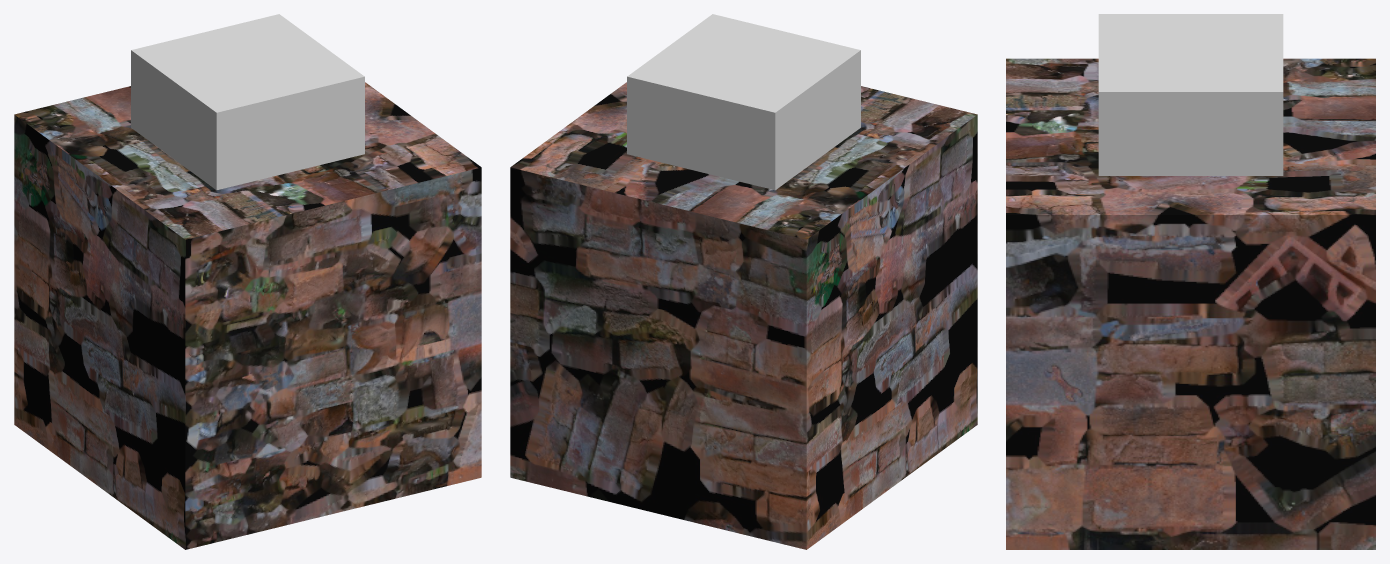
File: Cubes.gltf
3 views of the same model, side by side, from view 1: azimuth 30°, elevation 25°; view 2: azimuth 150°, elevation 25°; view 3: azimuth 270°, elevation 25° (orthographic). The views are drawn at different scales.
Visible parts, largest first — view 1: Cube, Cube.001; view 2: Cube, Cube.001; view 3: Cube, Cube.001.
Boxes of the visible parts, left/top/right/bottom form: Cube: left=14, top=82, right=481, bottom=549; Cube.001: left=131, top=14, right=364, bottom=190; Cube: left=510, top=82, right=977, bottom=549; Cube.001: left=627, top=14, right=860, bottom=190; Cube: left=1006, top=58, right=1375, bottom=549; Cube.001: left=1098, top=14, right=1283, bottom=175.
Bounding box in the file's own units: 2 × 2.5 × 2.
Materials: 2 (1 with a texture image).
